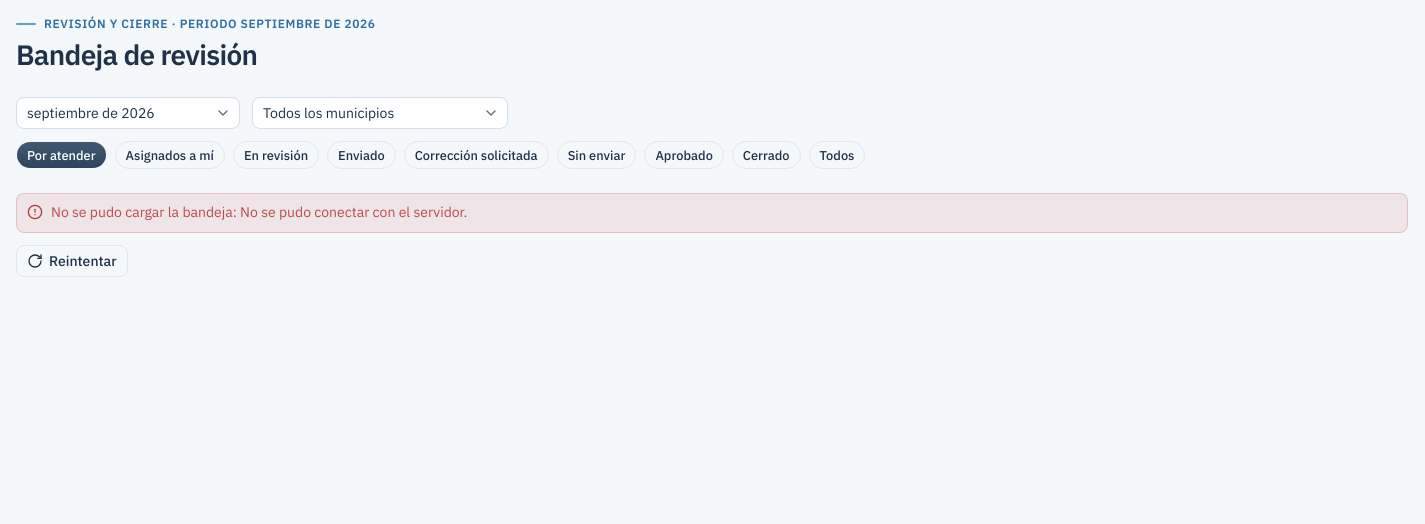
si falla la carga se muestra el error y «Reintentar» vuelve a pedir
Expected: the text "No se pudo cargar la bandeja" is shown, [51,203,240,221]
Click the button "Reintentar" at (72, 261), box [16,245,128,277]
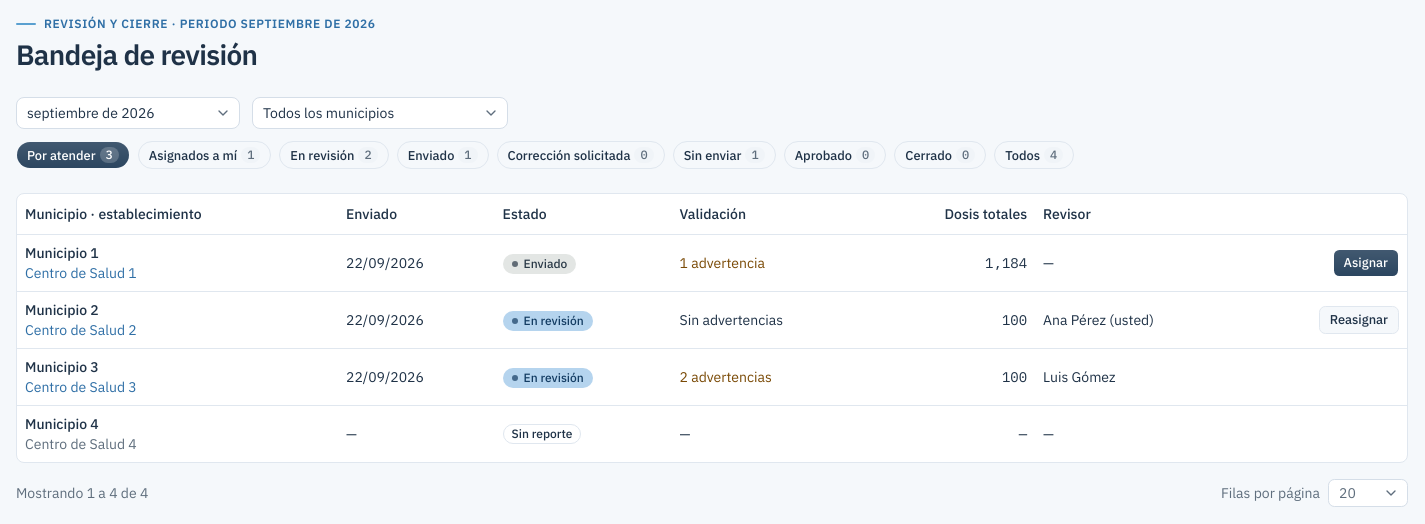
Result: the table is shown at [17,194,1407,462]
